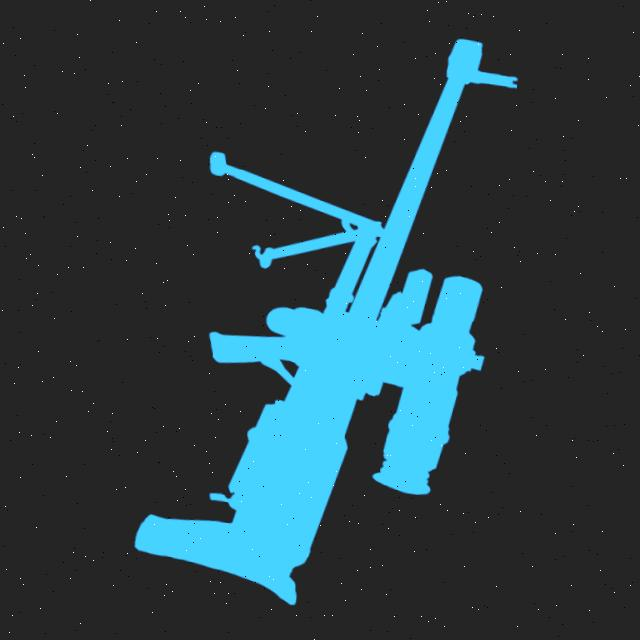firearm: (92, 4, 548, 630)
